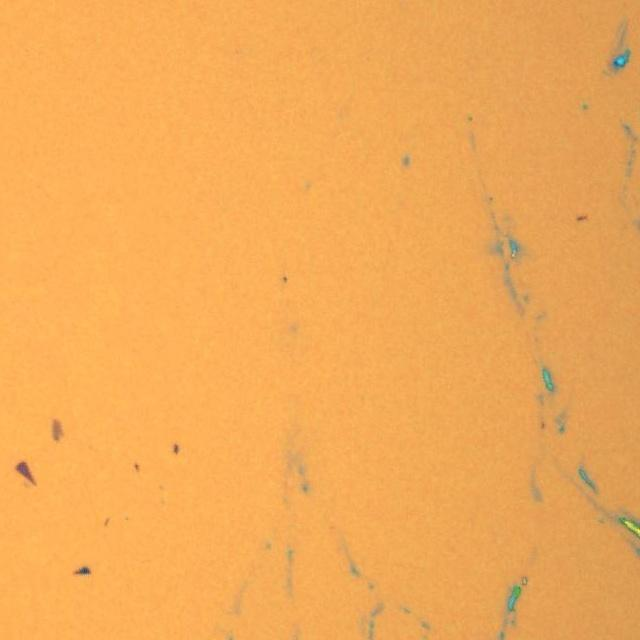monolayer-eWW4: (51, 418, 64, 443)
